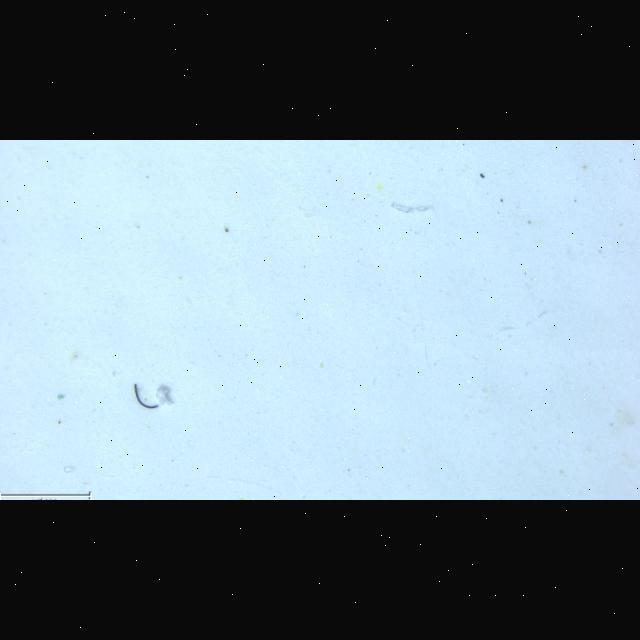Fibre: (134, 384, 158, 409), (391, 203, 433, 213)
Fragment: (156, 386, 172, 405)
